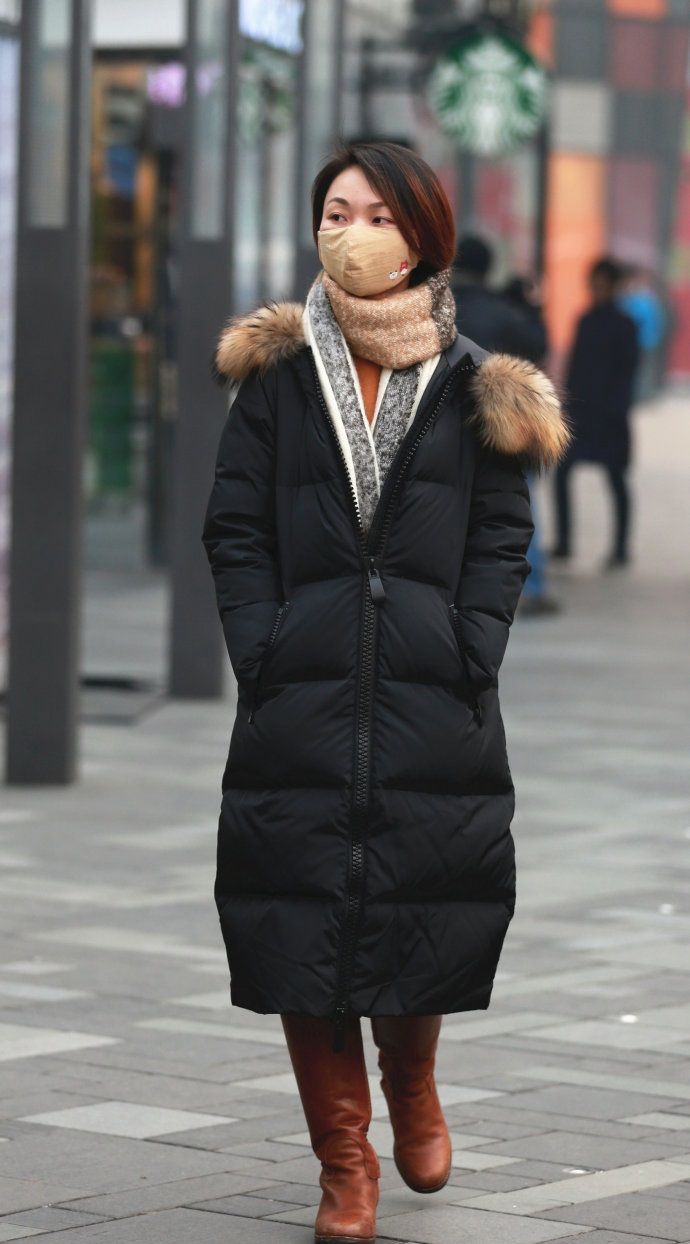face_mask: (318, 187, 408, 296)
